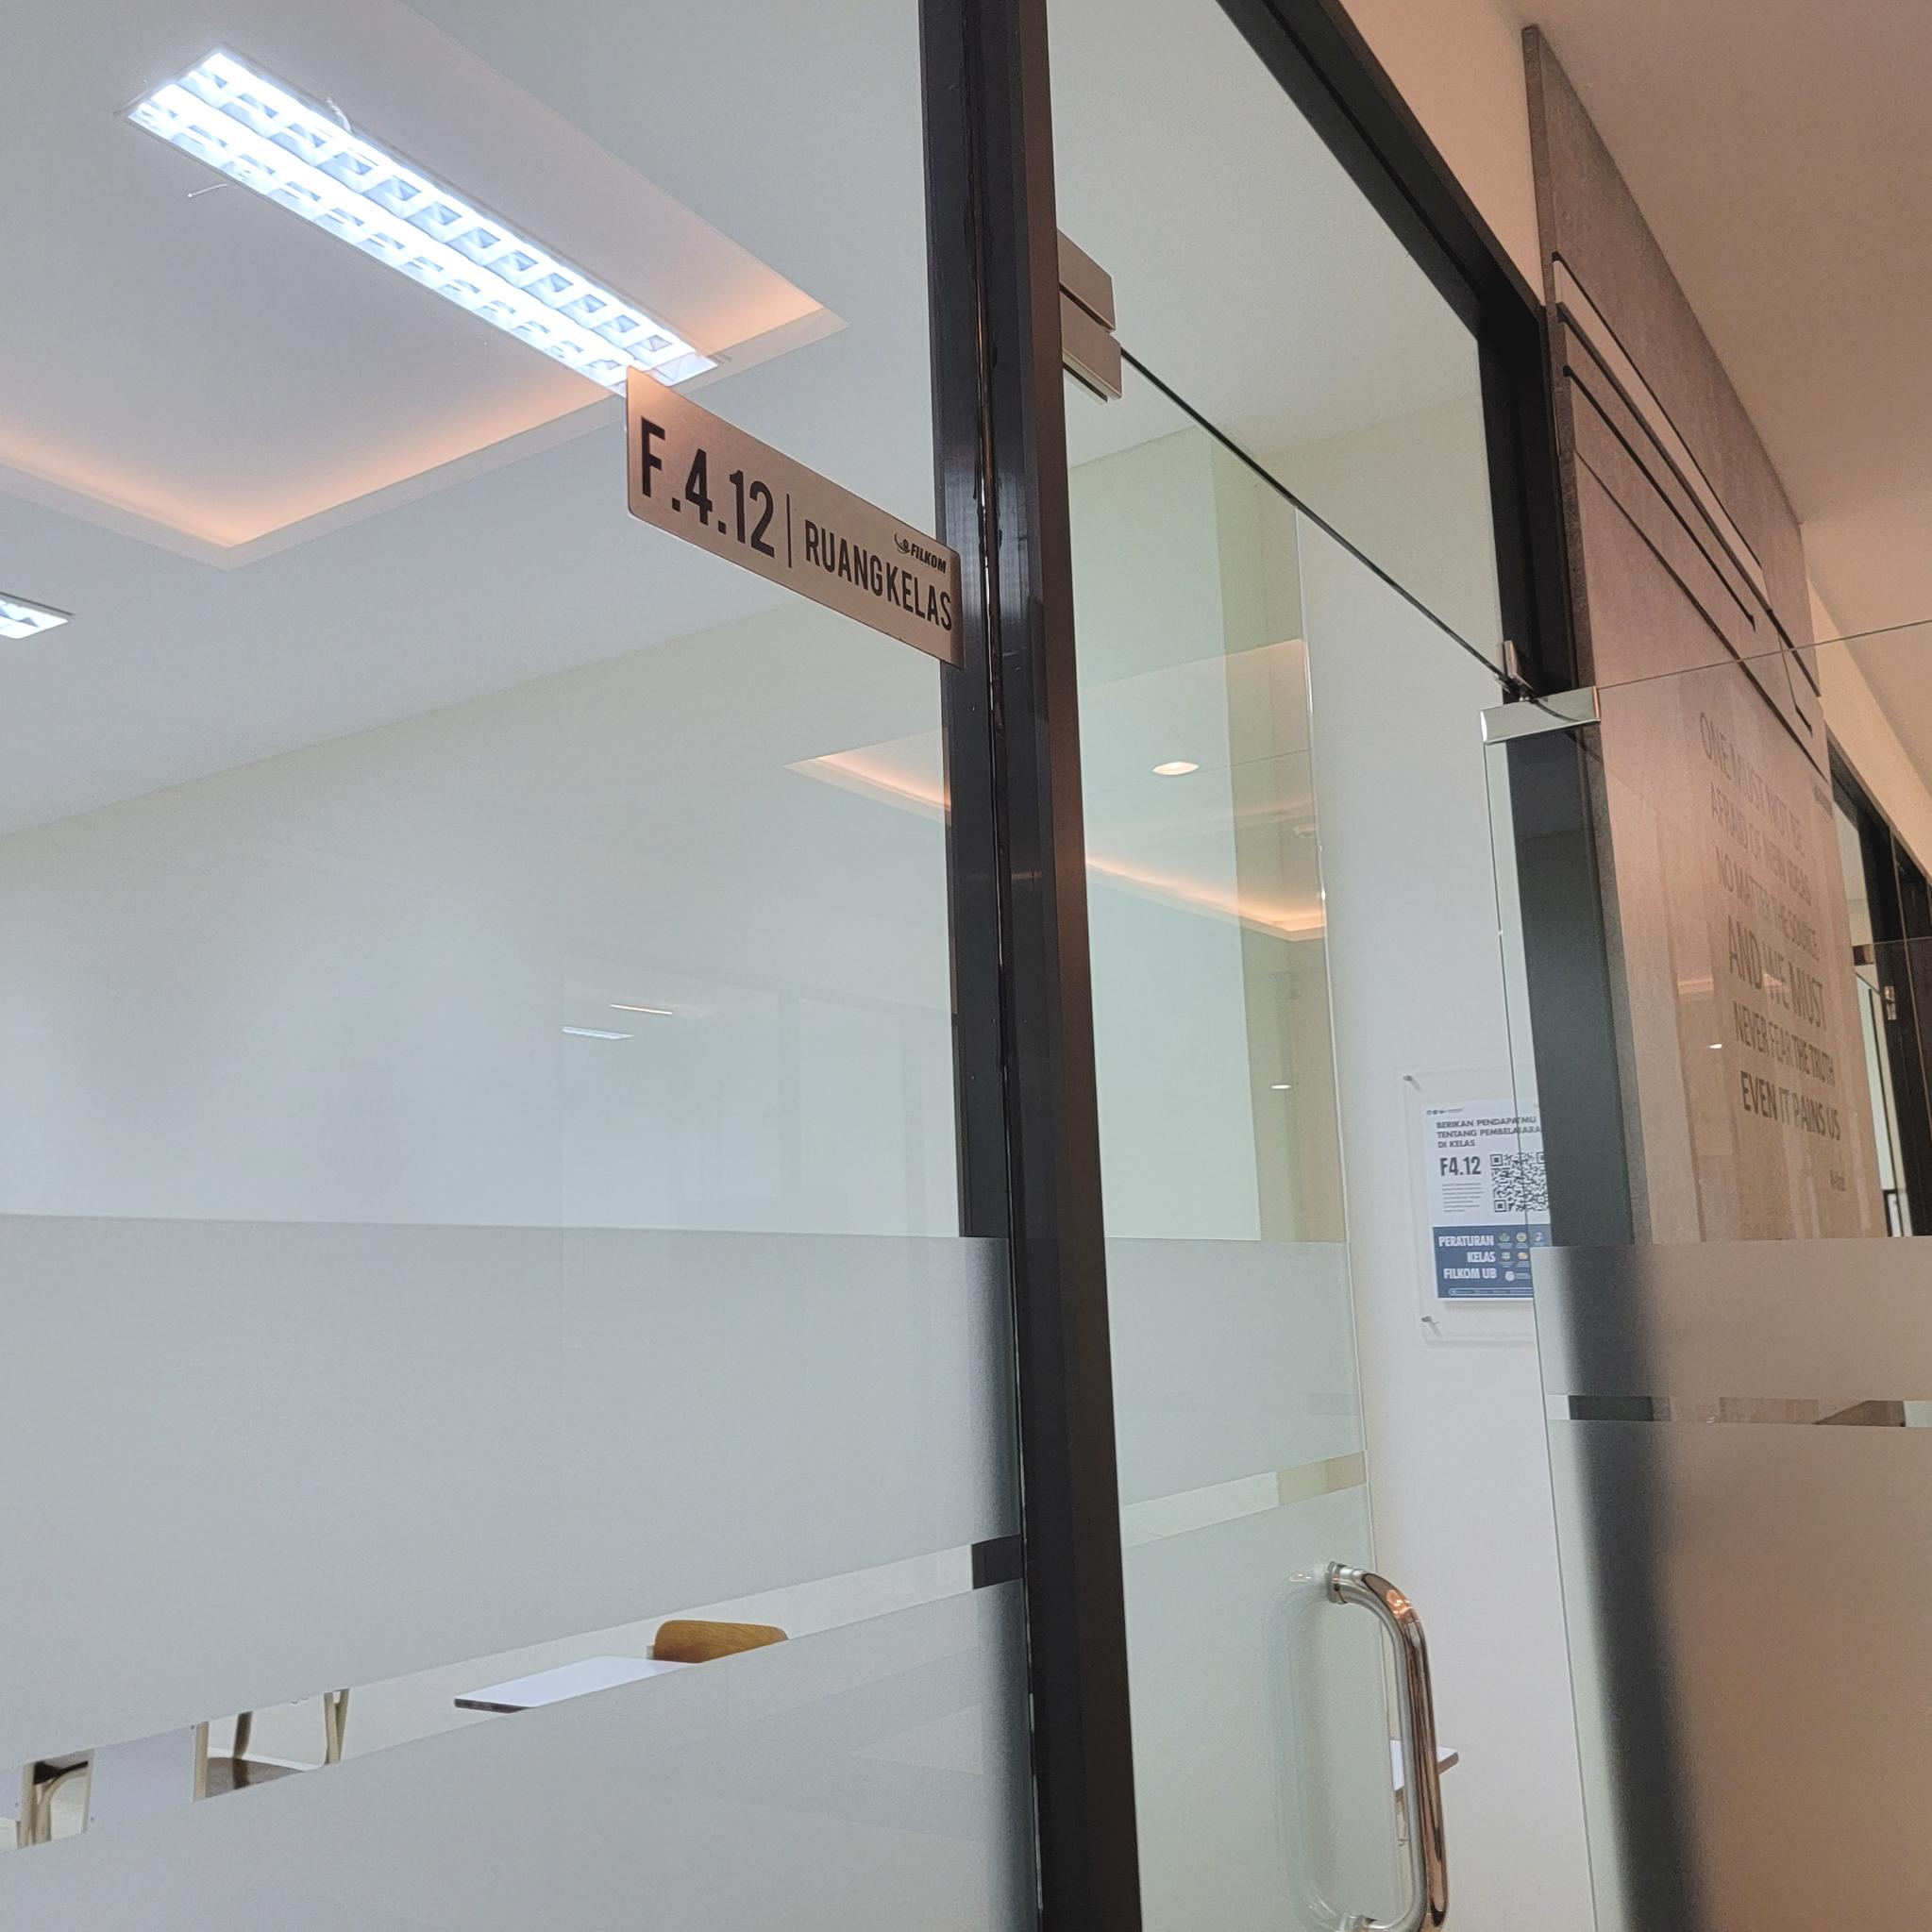plate: (626, 363, 966, 674)
